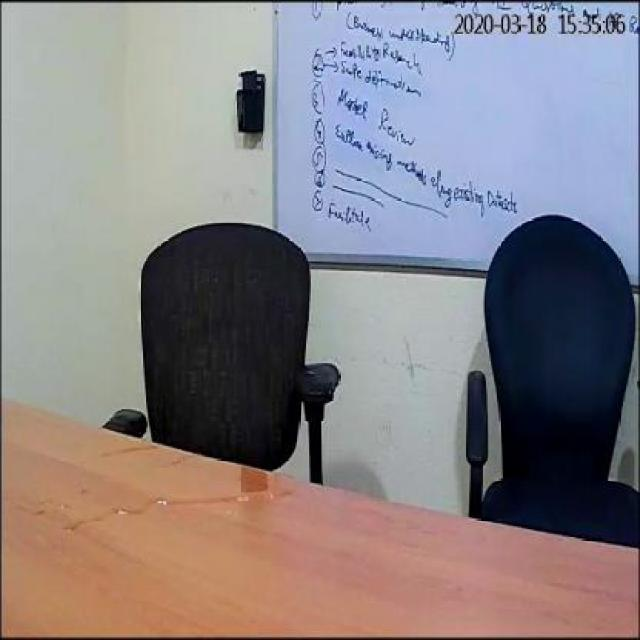spill: (82, 456, 310, 530)
